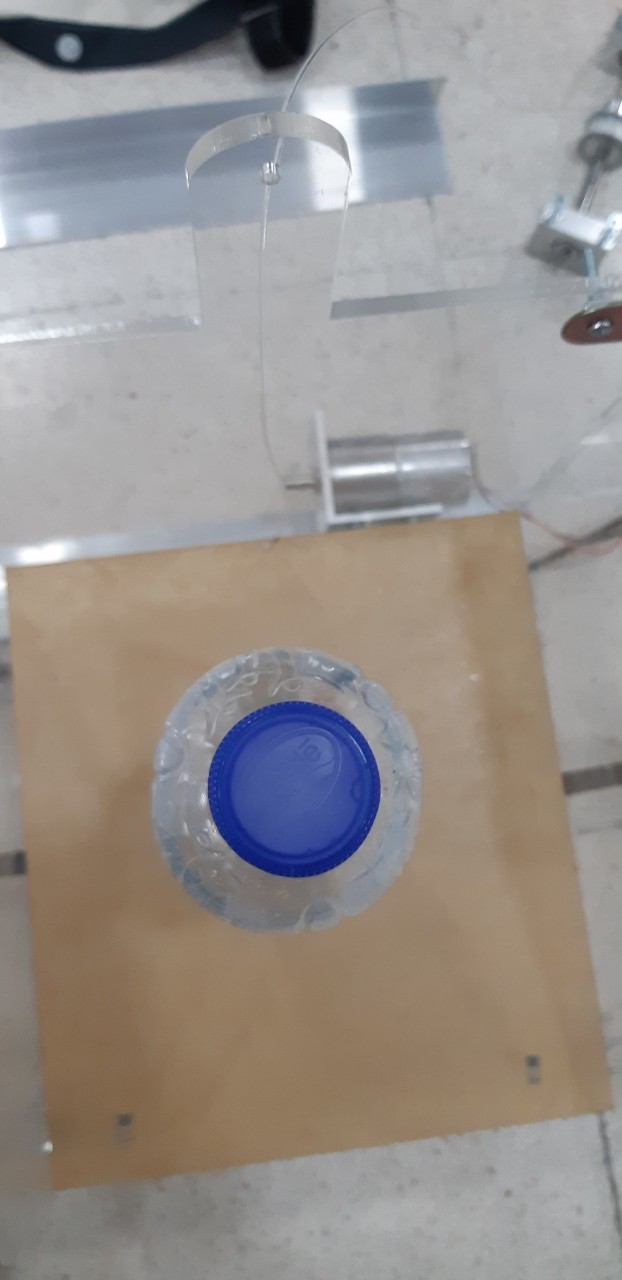PlasticBottle: (151, 645, 425, 945)
